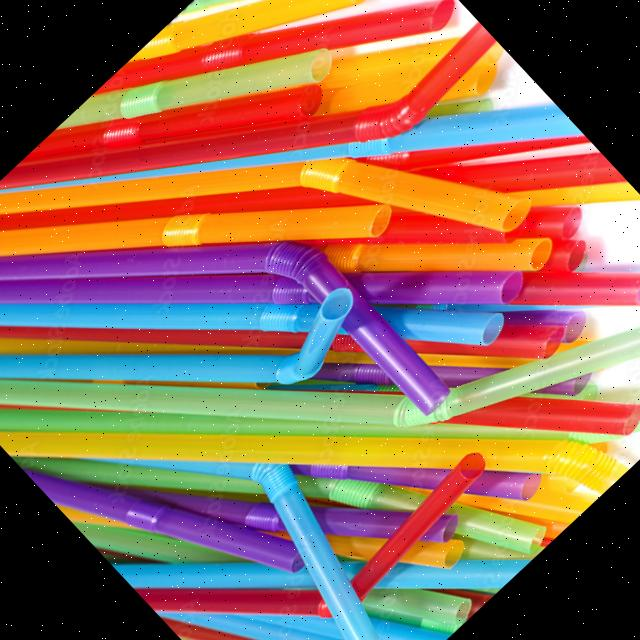plastic: (0, 112, 430, 578)
